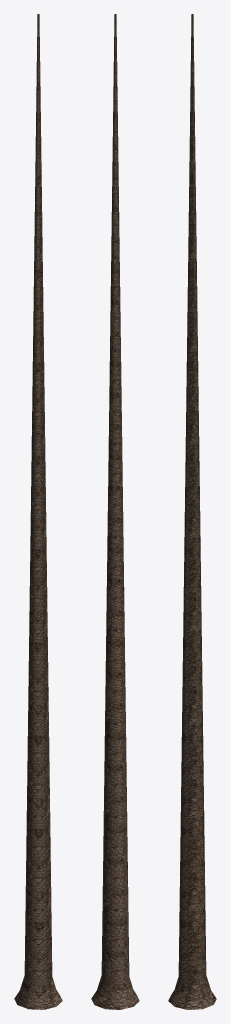
Rendered from mdl_env_sapin_trunk_01.fbx.
3 views of the same model, side by side, from view 1: azimuth 30°, elevation 25°; view 2: azimuth 210°, elevation 25°; view 3: azimuth 330°, elevation 25° (orthographic).
Visible parts, largest first — view 1: mdl_env_sapin_trunk_01; view 2: mdl_env_sapin_trunk_01; view 3: mdl_env_sapin_trunk_01.
Boxes of the visible parts, box(x1,y1,x2,y2) form: mdl_env_sapin_trunk_01: box(14, 14, 62, 1009); mdl_env_sapin_trunk_01: box(91, 14, 139, 1009); mdl_env_sapin_trunk_01: box(168, 14, 216, 1009).
Bounding box in the file's own units: 1.03 × 22.84 × 0.9755.
